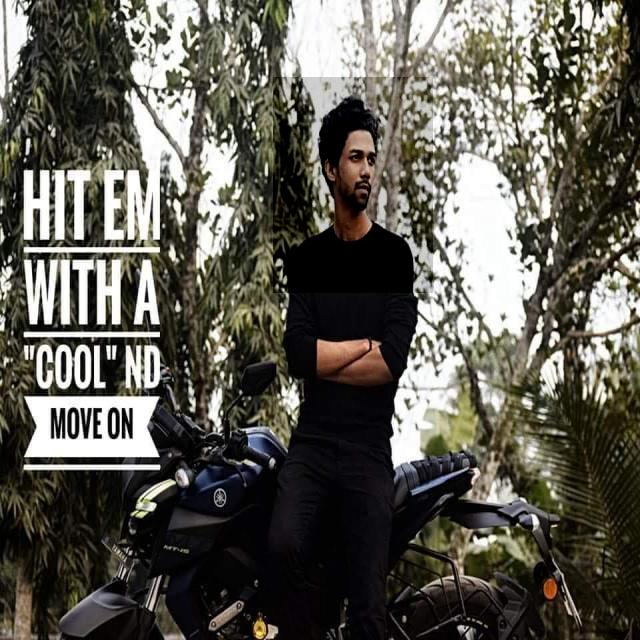No_Helmet: (274, 78, 434, 294)
